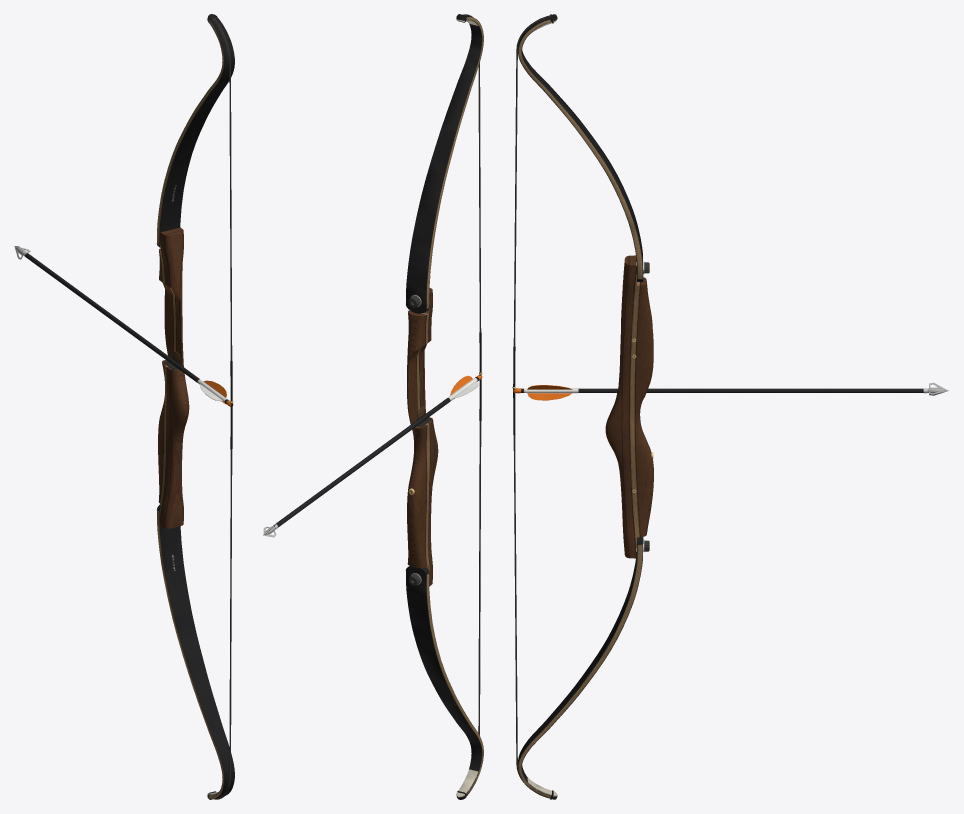
File: arco_recurvo_leve.glb
The picture shows the model from 3 angles, left to right: view 1: azimuth 30°, elevation 25°; view 2: azimuth 150°, elevation 25°; view 3: azimuth 270°, elevation 25°; orthographic projection.
Parts seen in each view (by area): view 1: arco_recurvo_leve; view 2: arco_recurvo_leve; view 3: arco_recurvo_leve.
Part boxes in pixels (x1,y1,x2,y2): arco_recurvo_leve: (14, 14, 234, 799); arco_recurvo_leve: (263, 14, 483, 799); arco_recurvo_leve: (512, 14, 948, 799).
Bounding box in the file's own units: 0.0408 × 1.45 × 0.7348.
Materials: 1 (1 with a texture image).
